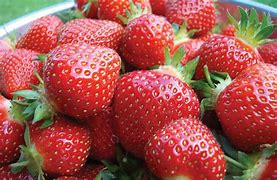Fresa: (113, 68, 204, 160), (40, 41, 123, 122), (211, 62, 277, 155), (144, 115, 228, 180), (27, 111, 93, 176), (193, 31, 266, 88), (119, 13, 177, 68), (57, 18, 125, 54), (1, 46, 44, 101), (165, 1, 218, 37), (17, 14, 63, 54)
